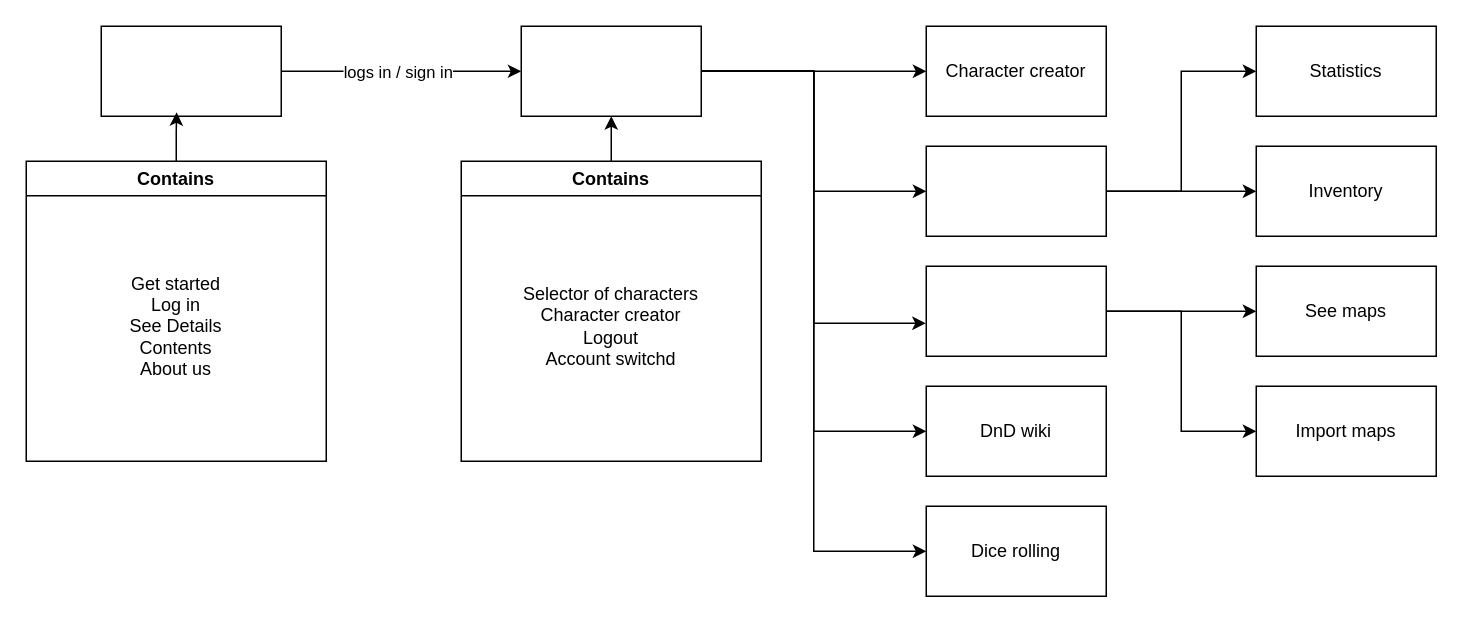
The diagram is 1463 pixels wide and 623 high, and some of its shapes have lost their labels. The shapes that lost their labels are listed below. From the top down, each one's box as (x1, y1, x2, y2) in pixels, then its label:
(100, 25, 281, 116): Landing page
(520, 25, 701, 116): Home page
(925, 145, 1106, 236): Character selector
(925, 265, 1106, 356): Maps
